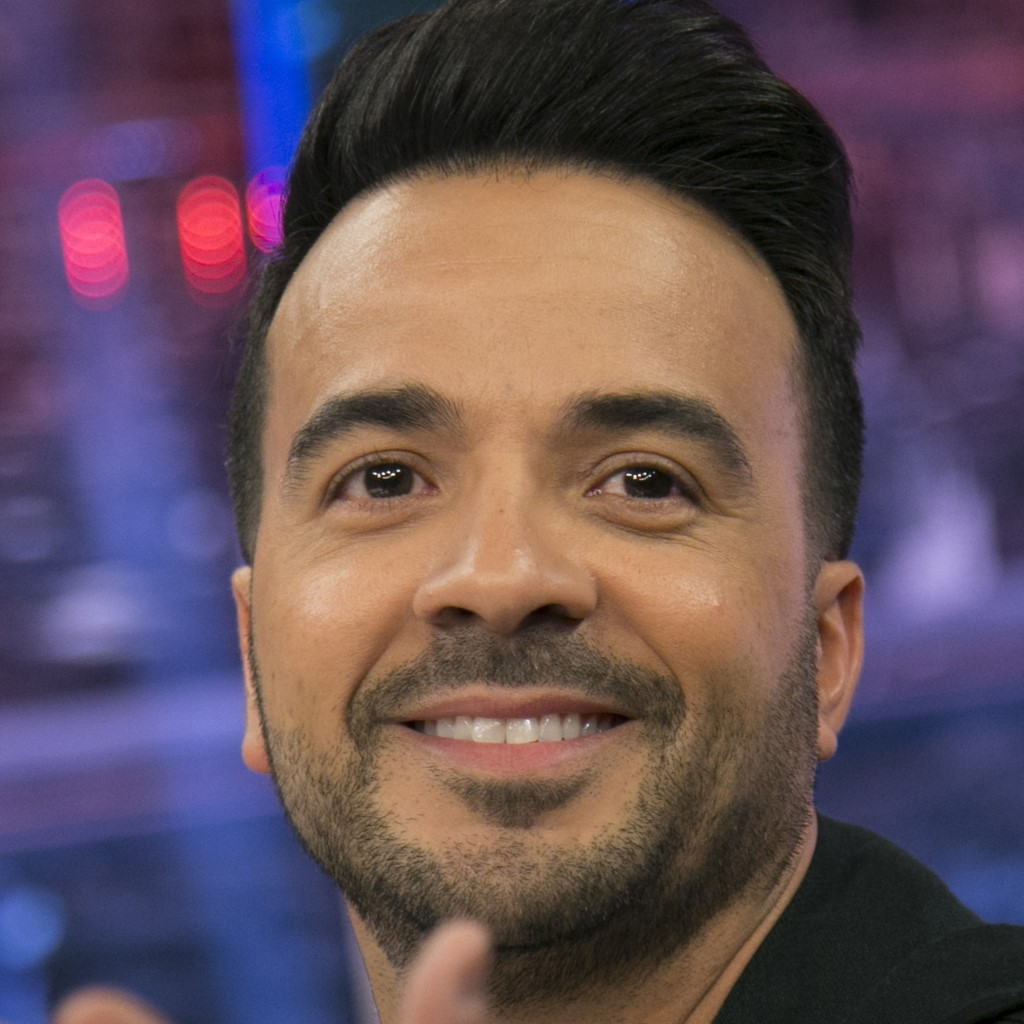sin_mascara: (224, 146, 823, 972)
